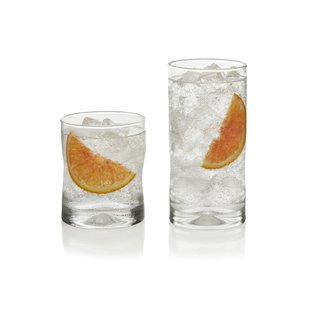Nonrec_Glass: (161, 46, 254, 240), (51, 97, 159, 236)
